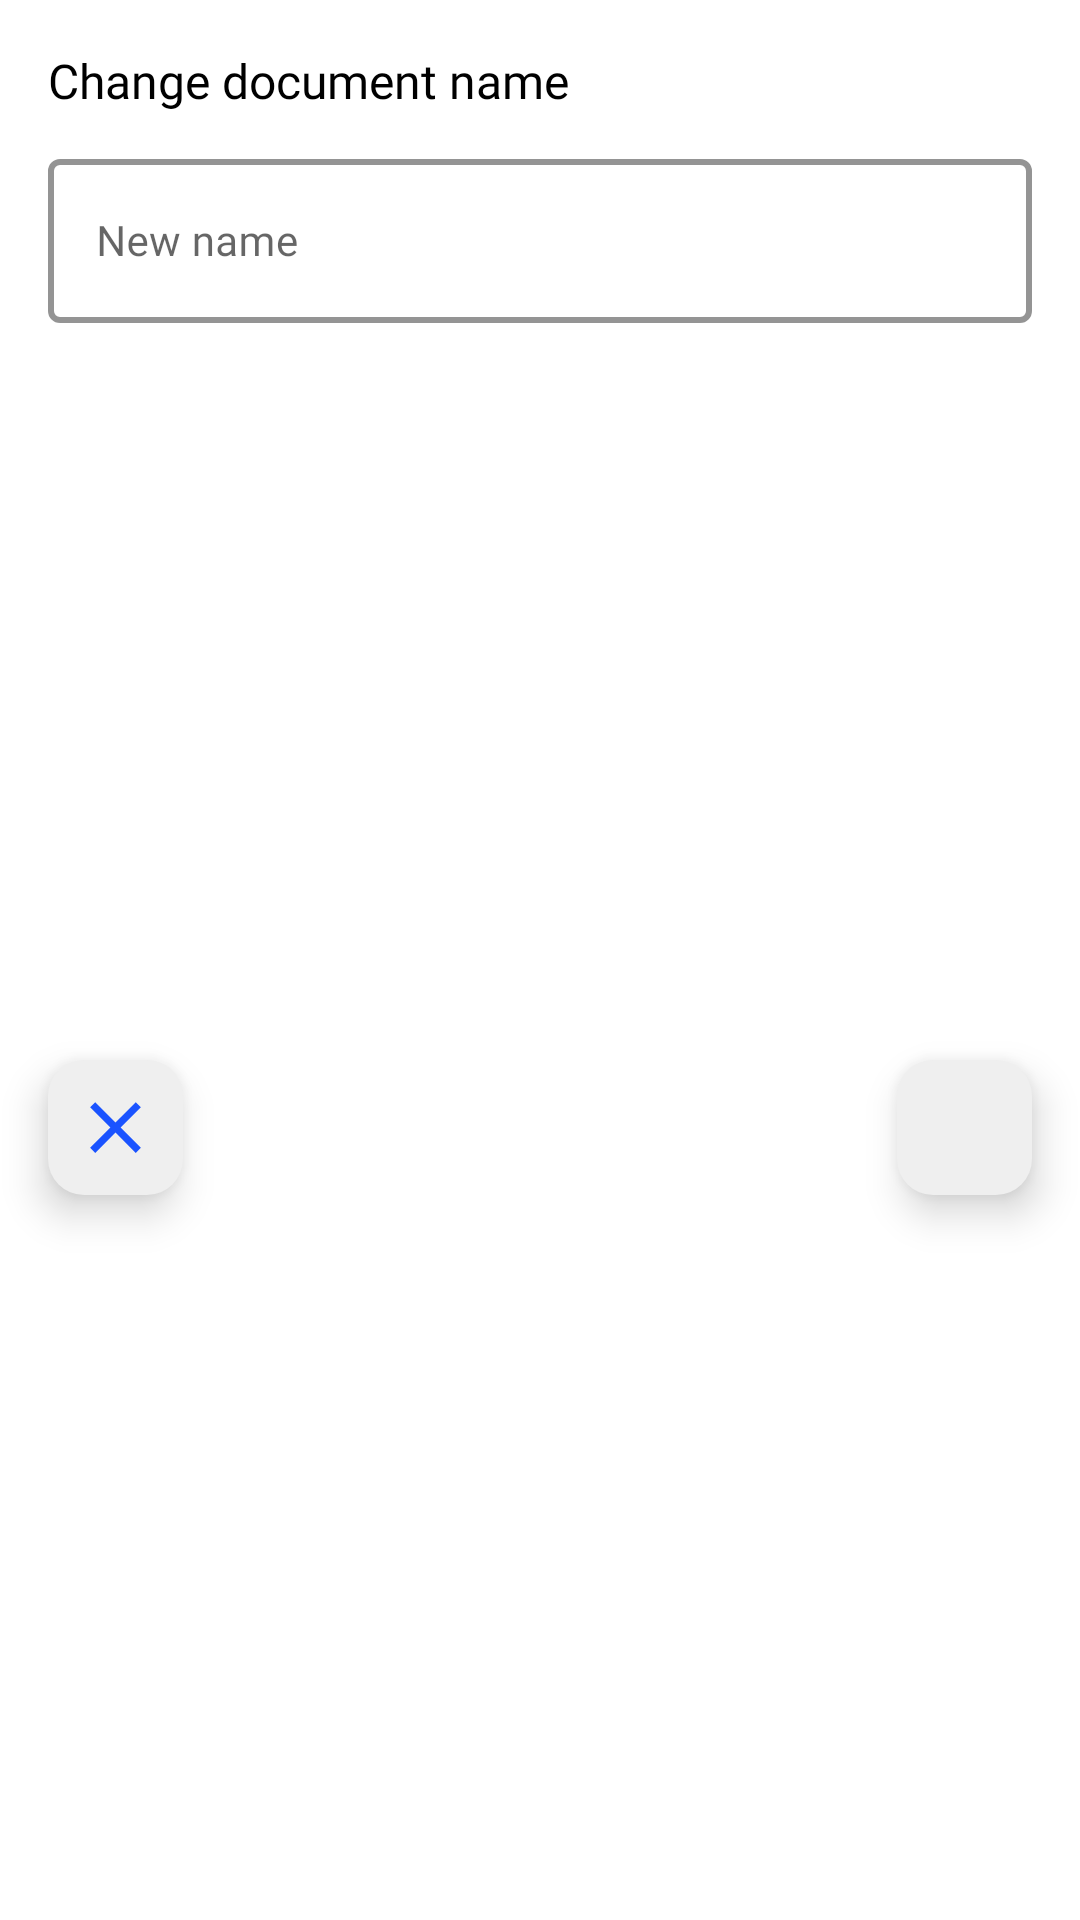

Where icons sit on this 1080w x 1920h app screen, as (x1, y1, x2, y2):
close: (62, 1102, 141, 1195)
